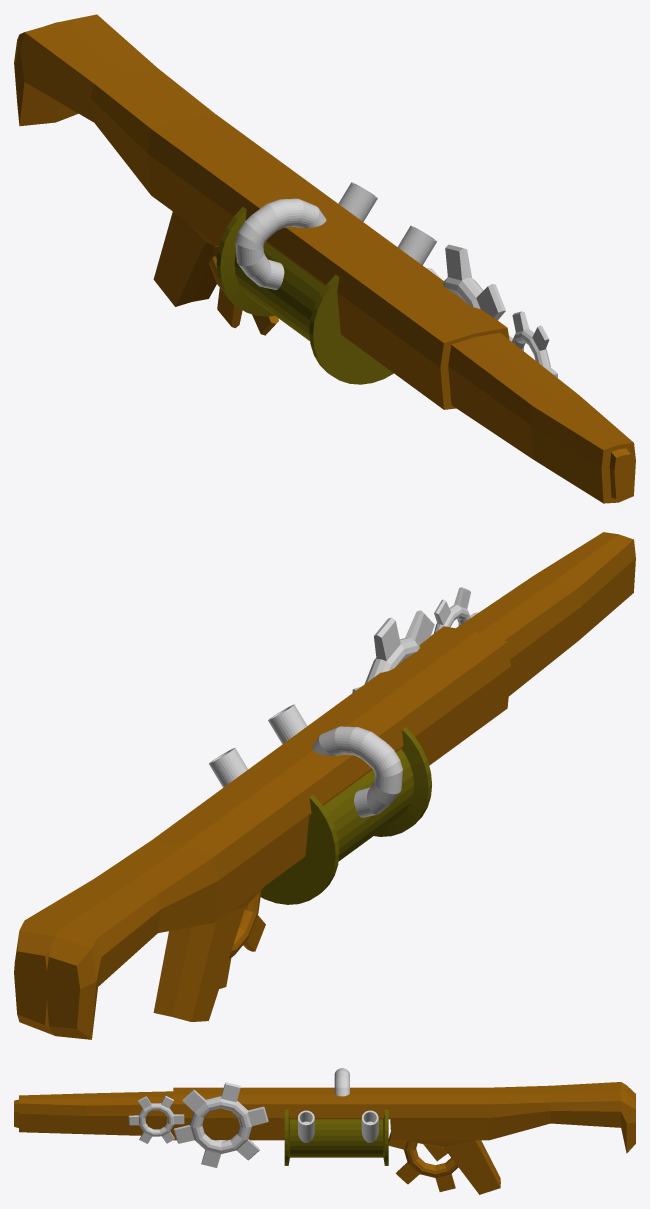
Rendered from steamrifle.fbx.
3 views of the same model, one above another, from view 1: azimuth 30°, elevation 25°; view 2: azimuth 150°, elevation 25°; view 3: azimuth 270°, elevation 25° (orthographic). The views are drawn at different scales.
Visible parts, largest first — view 1: Cube, Cylinder, Cylinder.003, Torus.001, Torus.004, Torus.003, Cylinder.001, Cylinder.002; view 2: Cube, Cylinder, Cylinder.003, Torus.001, Torus.003, Torus.004, Cylinder.001, Cylinder.002; view 3: Cube, Cylinder, Torus.001, Torus.003, Torus.004, Cylinder.002, Cylinder.001, Cylinder.003.
Part boxes in pixels (left/top/right/bottom): Cube: left=14, top=14, right=635, bottom=503; Cylinder: left=216, top=207, right=393, bottom=384; Cylinder.003: left=235, top=198, right=326, bottom=289; Torus.001: left=426, top=244, right=505, bottom=320; Torus.004: left=509, top=311, right=557, bottom=377; Torus.003: left=209, top=256, right=278, bottom=335; Cylinder.001: left=398, top=225, right=436, bottom=265; Cylinder.002: left=338, top=182, right=377, bottom=221; Cube: left=14, top=532, right=635, bottom=1039; Cylinder: left=260, top=727, right=431, bottom=904; Cylinder.003: left=312, top=726, right=402, bottom=817; Torus.001: left=352, top=610, right=434, bottom=692; Torus.003: left=219, top=890, right=265, bottom=988; Torus.004: left=434, top=587, right=477, bottom=633; Cylinder.001: left=268, top=704, right=307, bottom=744; Cylinder.002: left=209, top=748, right=247, bottom=787; Cube: left=14, top=1082, right=635, bottom=1194; Cylinder: left=284, top=1109, right=388, bottom=1165; Torus.001: left=173, top=1082, right=268, bottom=1167; Torus.003: left=388, top=1132, right=458, bottom=1191; Torus.004: left=128, top=1095, right=184, bottom=1143; Cylinder.002: left=361, top=1110, right=378, bottom=1142; Cylinder.001: left=298, top=1110, right=314, bottom=1142; Cylinder.003: left=334, top=1068, right=349, bottom=1096.
Size of the model in its own units: 24.39 by 31.07 by 149.
